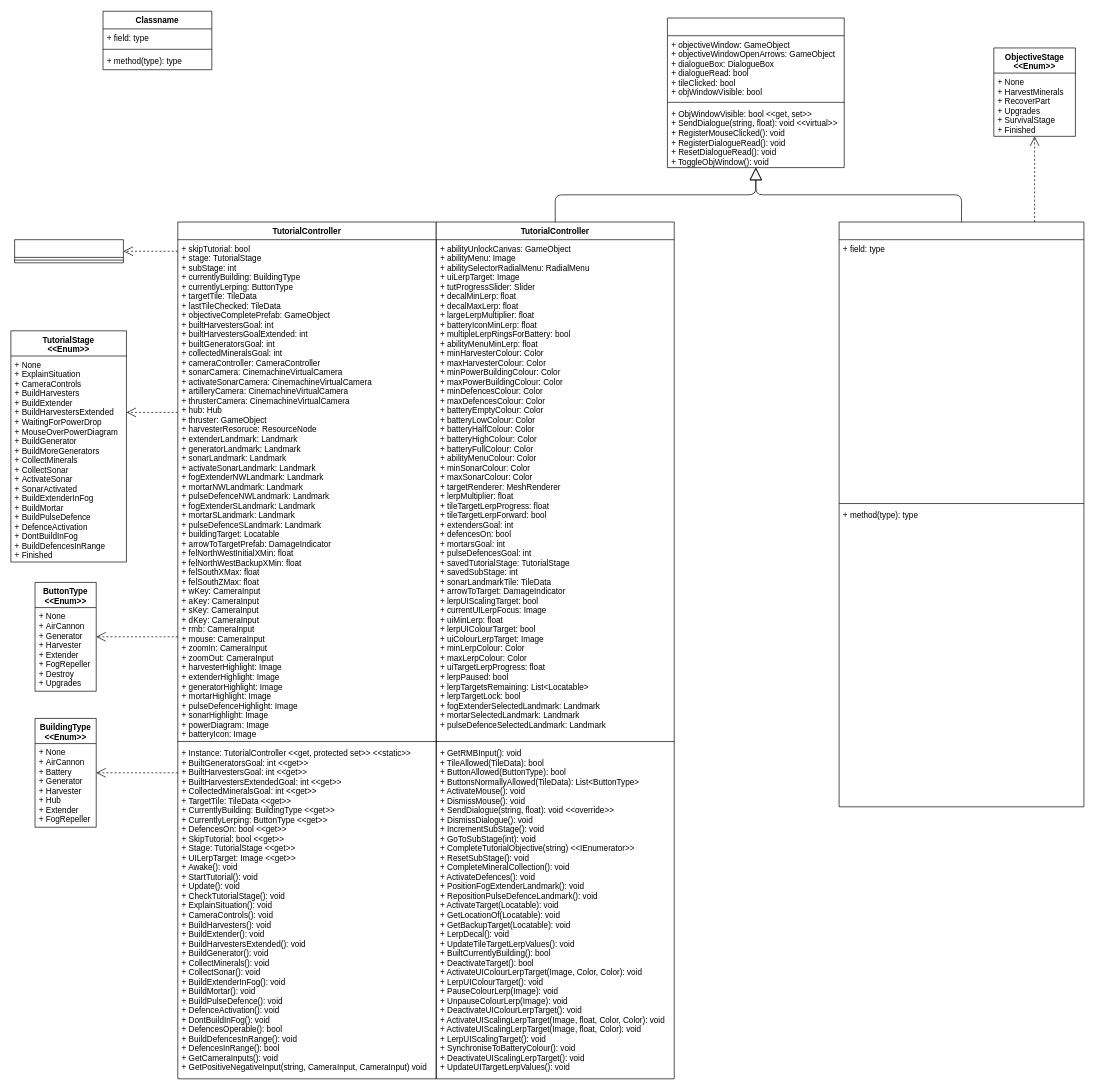
The diagram is 1095 pixels wide and 1090 high, and some of its shapes have lost their labels. Each missing label, with the box of its shape:
DialogueBoxController: (667, 17, 844, 168)
ObjectiveController: (838, 221, 1084, 807)
TileData: (14, 239, 123, 263)
